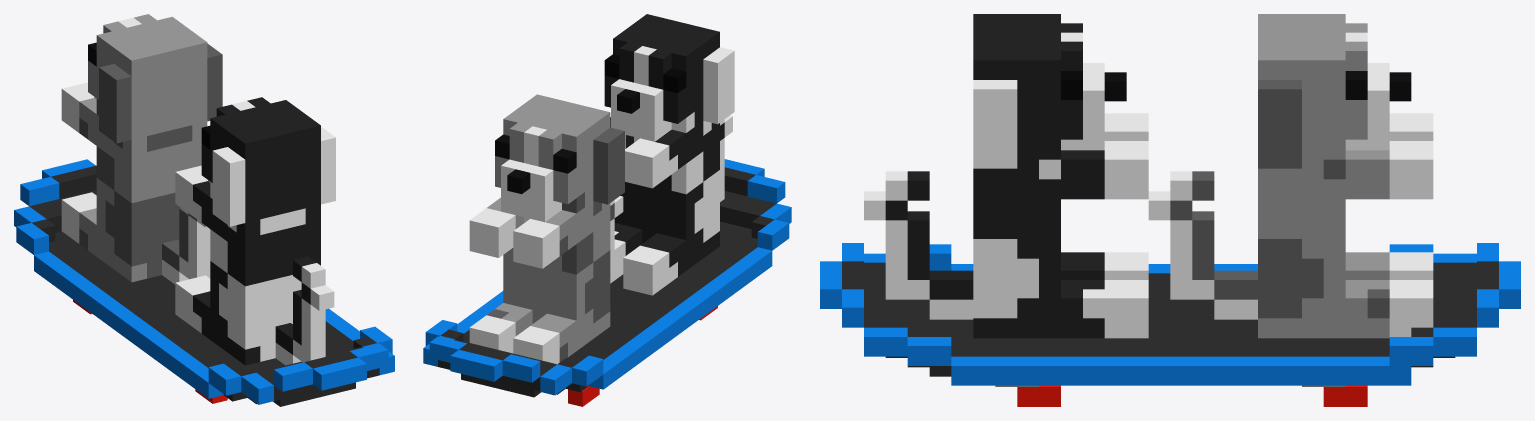
Rendered from Board dog2.obj.
3 renders of one model, left to right at view 1: azimuth 30°, elevation 25°; view 2: azimuth 150°, elevation 25°; view 3: azimuth 270°, elevation 25°, orthographic. The views are drawn at different scales.
Bounding box in the file's own units: 1.1 × 1.7 × 3.2.
Materials: 1 (1 with a texture image).
